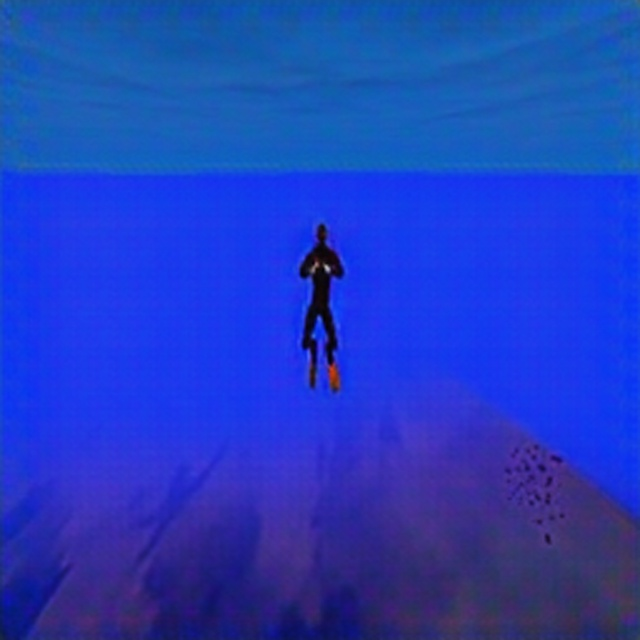diver: (296, 213, 350, 400)
